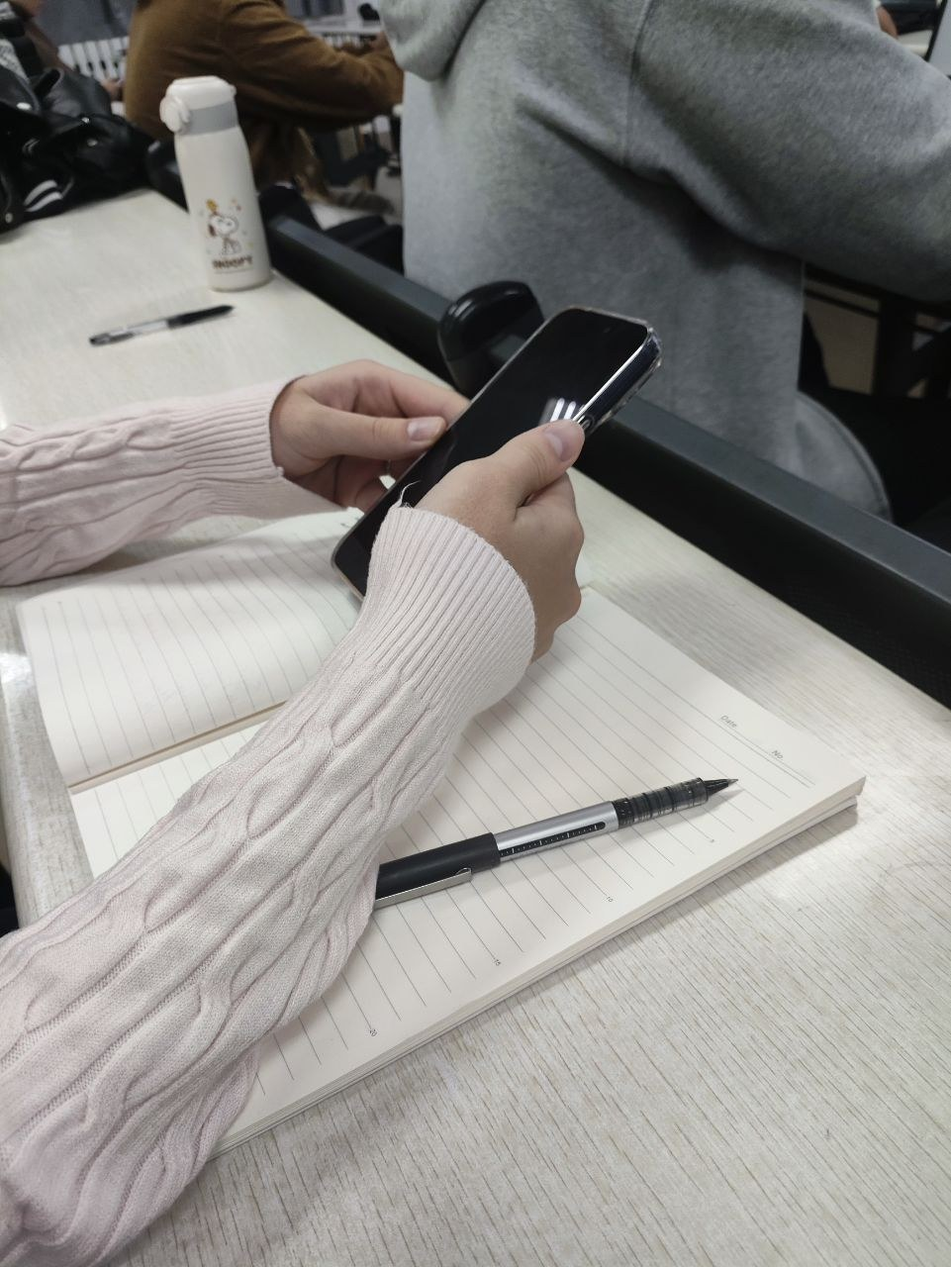cell phone: (335, 303, 664, 615)
